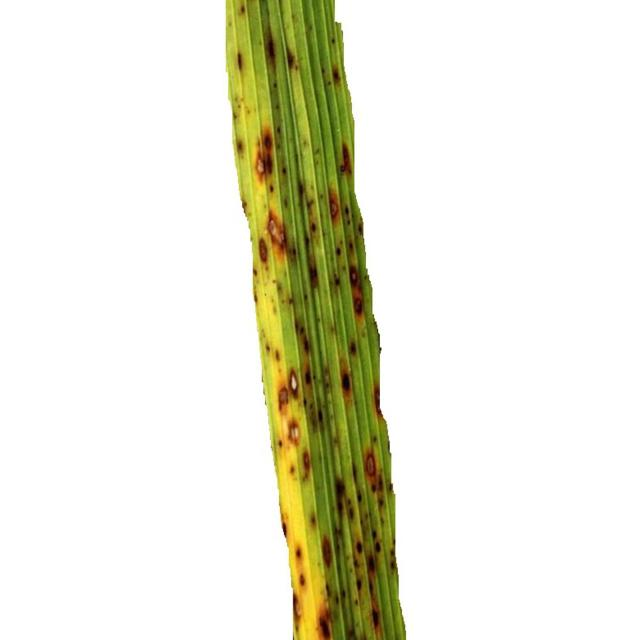Brown spot: (208, 0, 444, 640)
